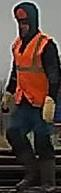gloves: (43, 94, 56, 125), (0, 90, 14, 116)
helmet: (14, 8, 28, 20)
vest: (12, 33, 54, 113)
